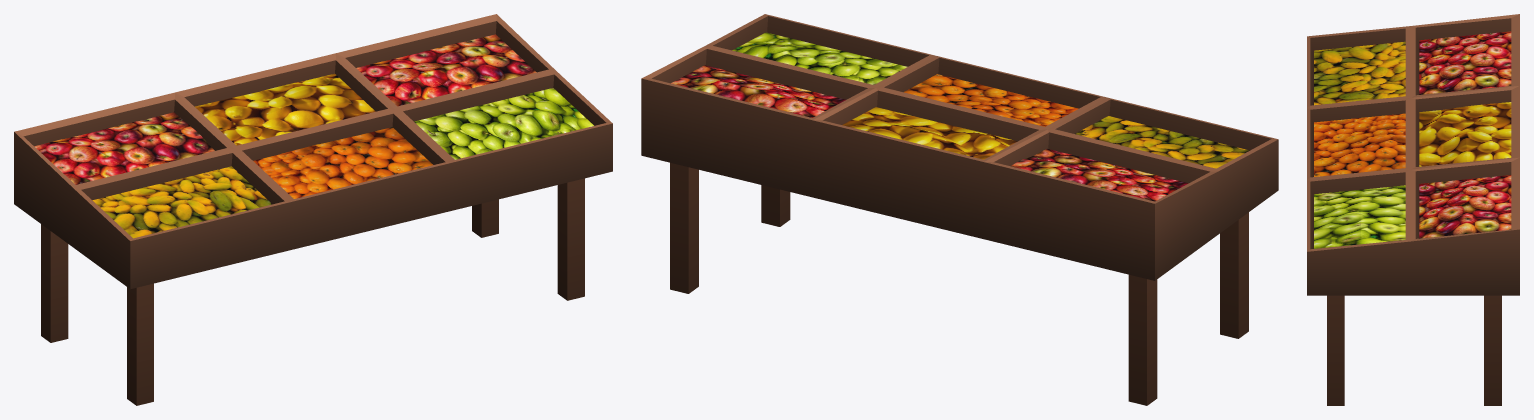
Rendered from MejaJualan1.fbx.
3 views of the same model, side by side, from view 1: azimuth 30°, elevation 25°; view 2: azimuth 150°, elevation 25°; view 3: azimuth 270°, elevation 25° (orthographic). The views are drawn at different scales.
Parts seen in each view (by area): view 1: MejaJualan1_LOD0, BuahLayer; view 2: MejaJualan1_LOD0, BuahLayer; view 3: MejaJualan1_LOD0, BuahLayer.
Part boxes in pixels (x1=…): MejaJualan1_LOD0: x1=14, y1=14, x2=612, y2=405; BuahLayer: x1=34, y1=34, x2=593, y2=238; MejaJualan1_LOD0: x1=641, y1=14, x2=1278, y2=405; BuahLayer: x1=671, y1=32, x2=1249, y2=201; MejaJualan1_LOD0: x1=1307, y1=14, x2=1519, y2=405; BuahLayer: x1=1314, y1=31, x2=1511, y2=248.
Size of the model in its own units: 249 by 99.38 by 104.
